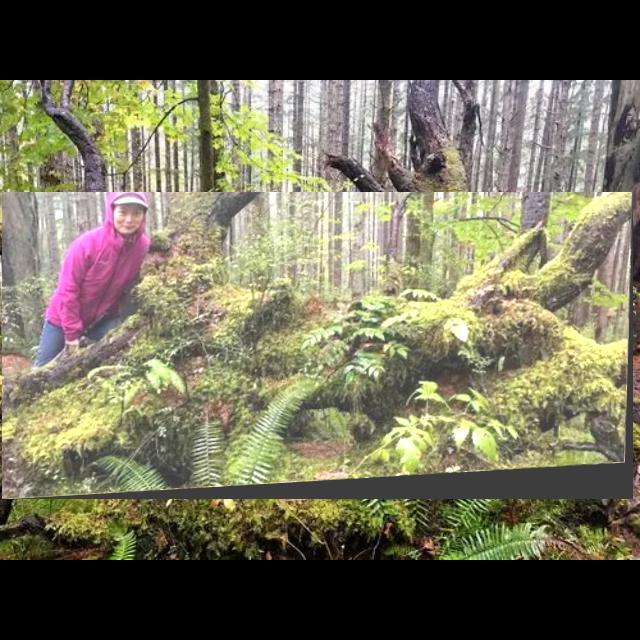fallen_tree: (2, 192, 634, 500)
